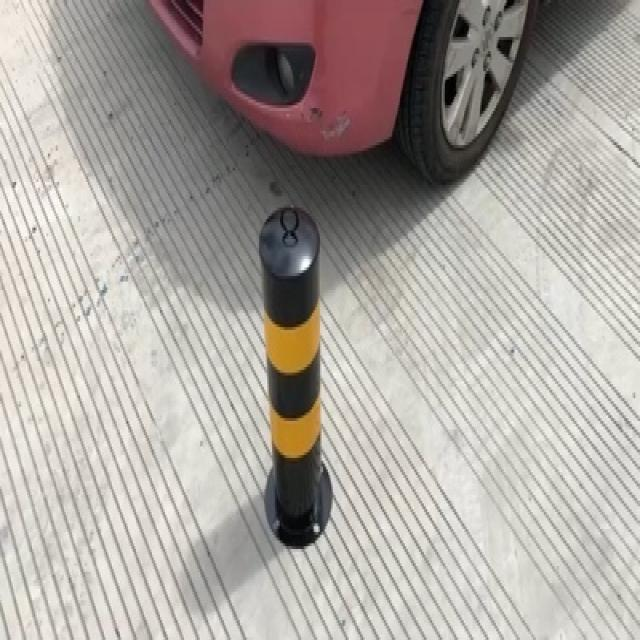car: (145, 3, 542, 179)
warning_column: (254, 205, 330, 538)
